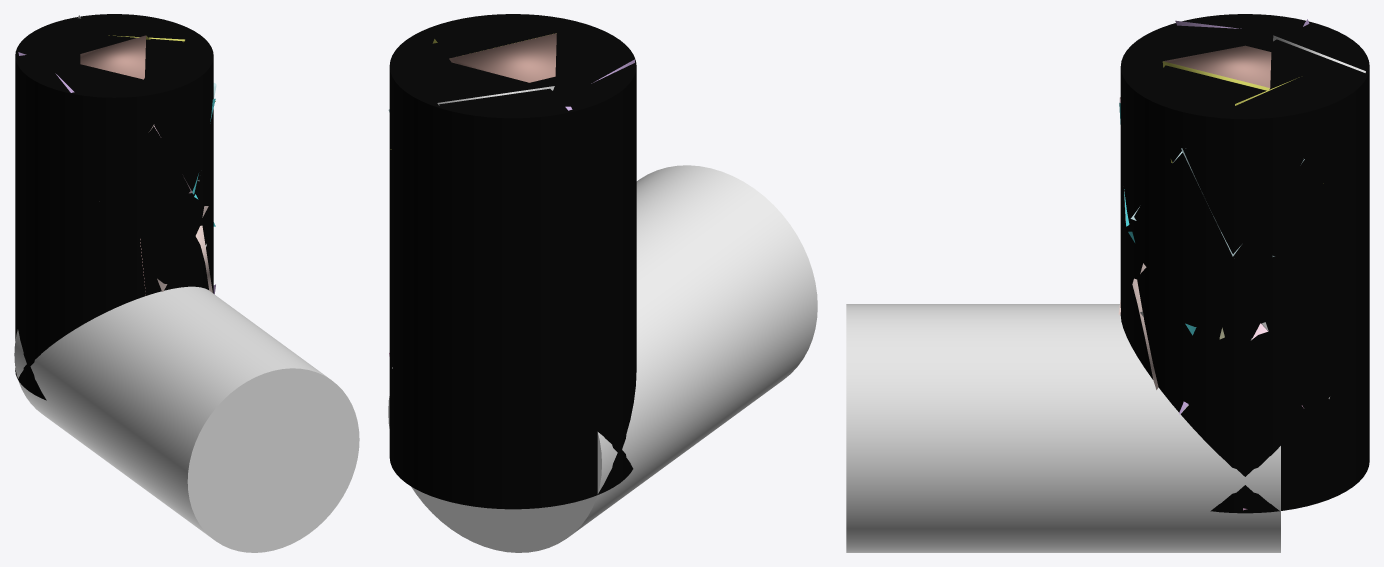
The picture shows the model from 3 angles, left to right: view 1: azimuth 30°, elevation 25°; view 2: azimuth 150°, elevation 25°; view 3: azimuth 270°, elevation 25°; orthographic projection. The views are drawn at different scales.
Visible parts, largest first — view 1: Renderer Node; view 2: Renderer Node; view 3: Renderer Node.
Boxes of the visible parts, x1,y1,x2,y2 form: Renderer Node: (14, 14, 359, 552); Renderer Node: (388, 14, 817, 552); Renderer Node: (846, 14, 1369, 552).
Size of the model in its own units: 2.02 by 4.23 by 4.19.
